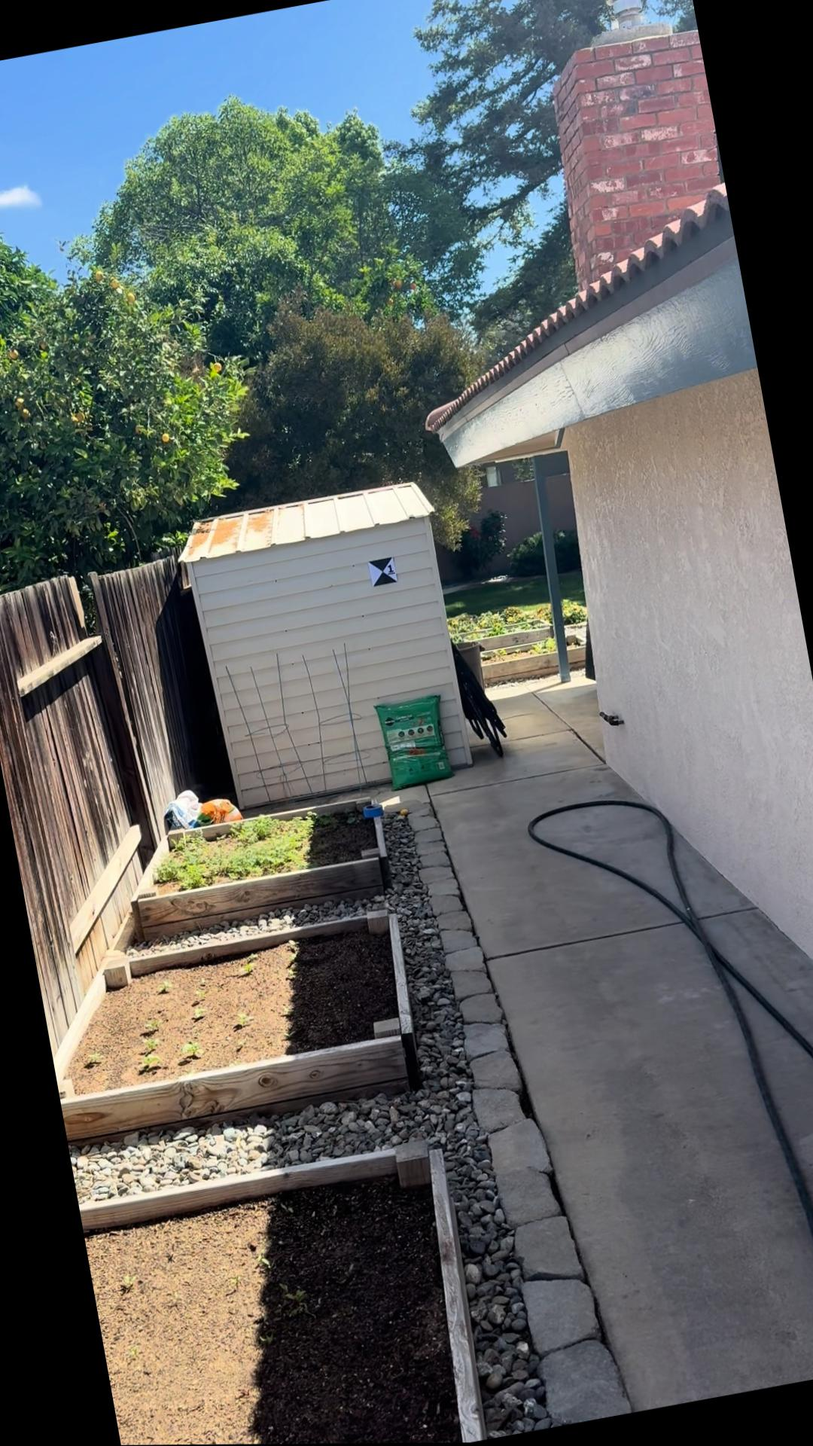target1: (364, 554, 402, 589)
